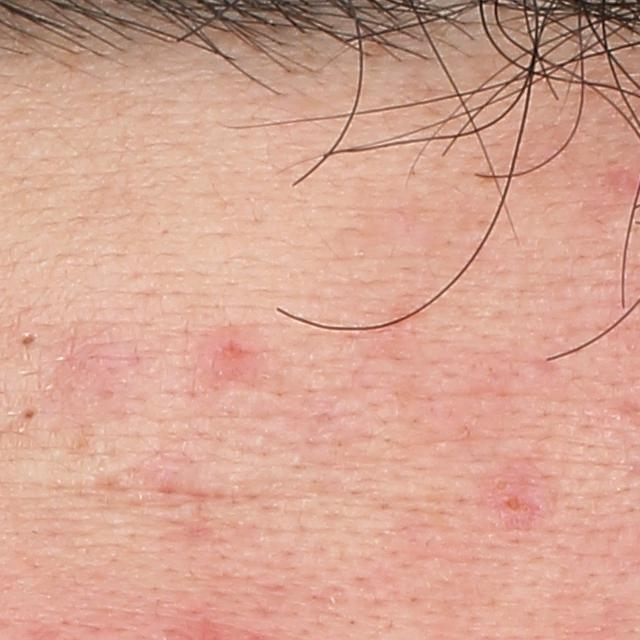comedo: (12, 328, 42, 355), (18, 401, 41, 423)
papule: (496, 468, 541, 526), (206, 334, 245, 383)
